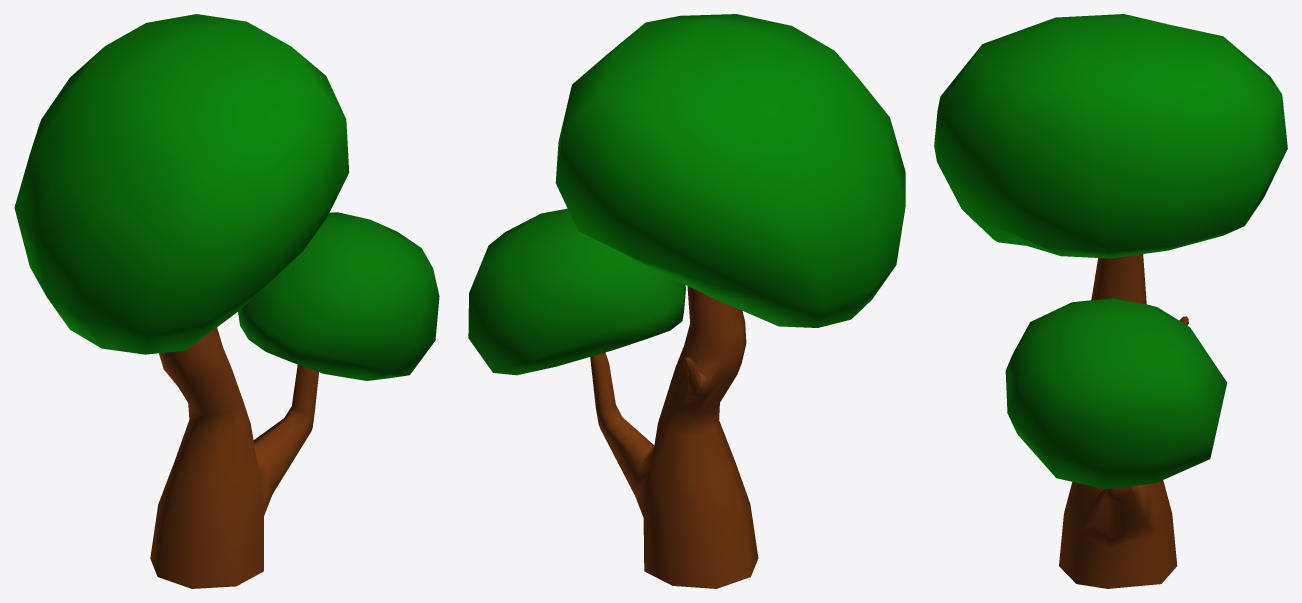
The model's file is SM_Tree_P_9.fbx.
The picture shows the model from 3 angles, left to right: view 1: azimuth 30°, elevation 25°; view 2: azimuth 150°, elevation 25°; view 3: azimuth 270°, elevation 25°; orthographic projection. The views are drawn at different scales.
Visible parts, largest first — view 1: SM_Tree_P_9; view 2: SM_Tree_P_9; view 3: SM_Tree_P_9.
Boxes of the visible parts, <box> form: SM_Tree_P_9: <box>14,14,439,588</box>; SM_Tree_P_9: <box>468,14,905,588</box>; SM_Tree_P_9: <box>934,14,1287,588</box>.
Size of the model in its own units: 740 by 955 by 576.
